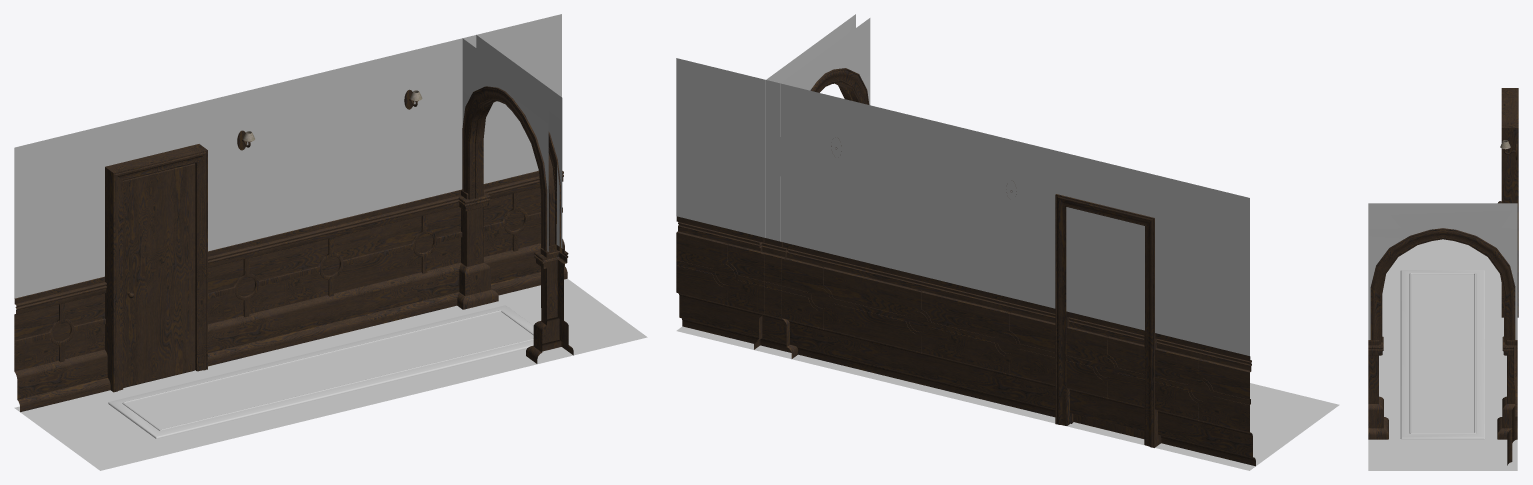
The model's file is Hallway.fbx.
The picture shows the model from 3 angles, left to right: view 1: azimuth 30°, elevation 25°; view 2: azimuth 150°, elevation 25°; view 3: azimuth 270°, elevation 25°; orthographic projection. The views are drawn at different scales.
Visible parts, largest first — view 1: Hallway; view 2: Hallway; view 3: Hallway.
Part boxes in pixels (bbox=[...]): Hallway: bbox=[14, 14, 647, 470]; Hallway: bbox=[676, 14, 1339, 470]; Hallway: bbox=[1368, 88, 1518, 470].
Bounding box in the file's own units: 550 × 250 × 151.
